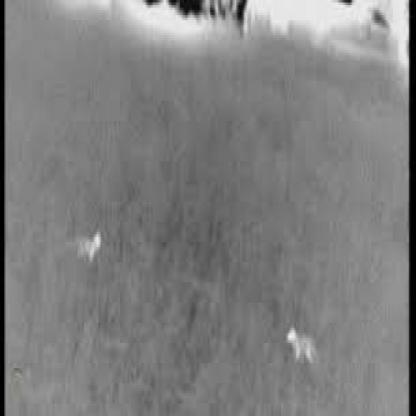rehkitze: (284, 322, 318, 366), (72, 226, 102, 261)
